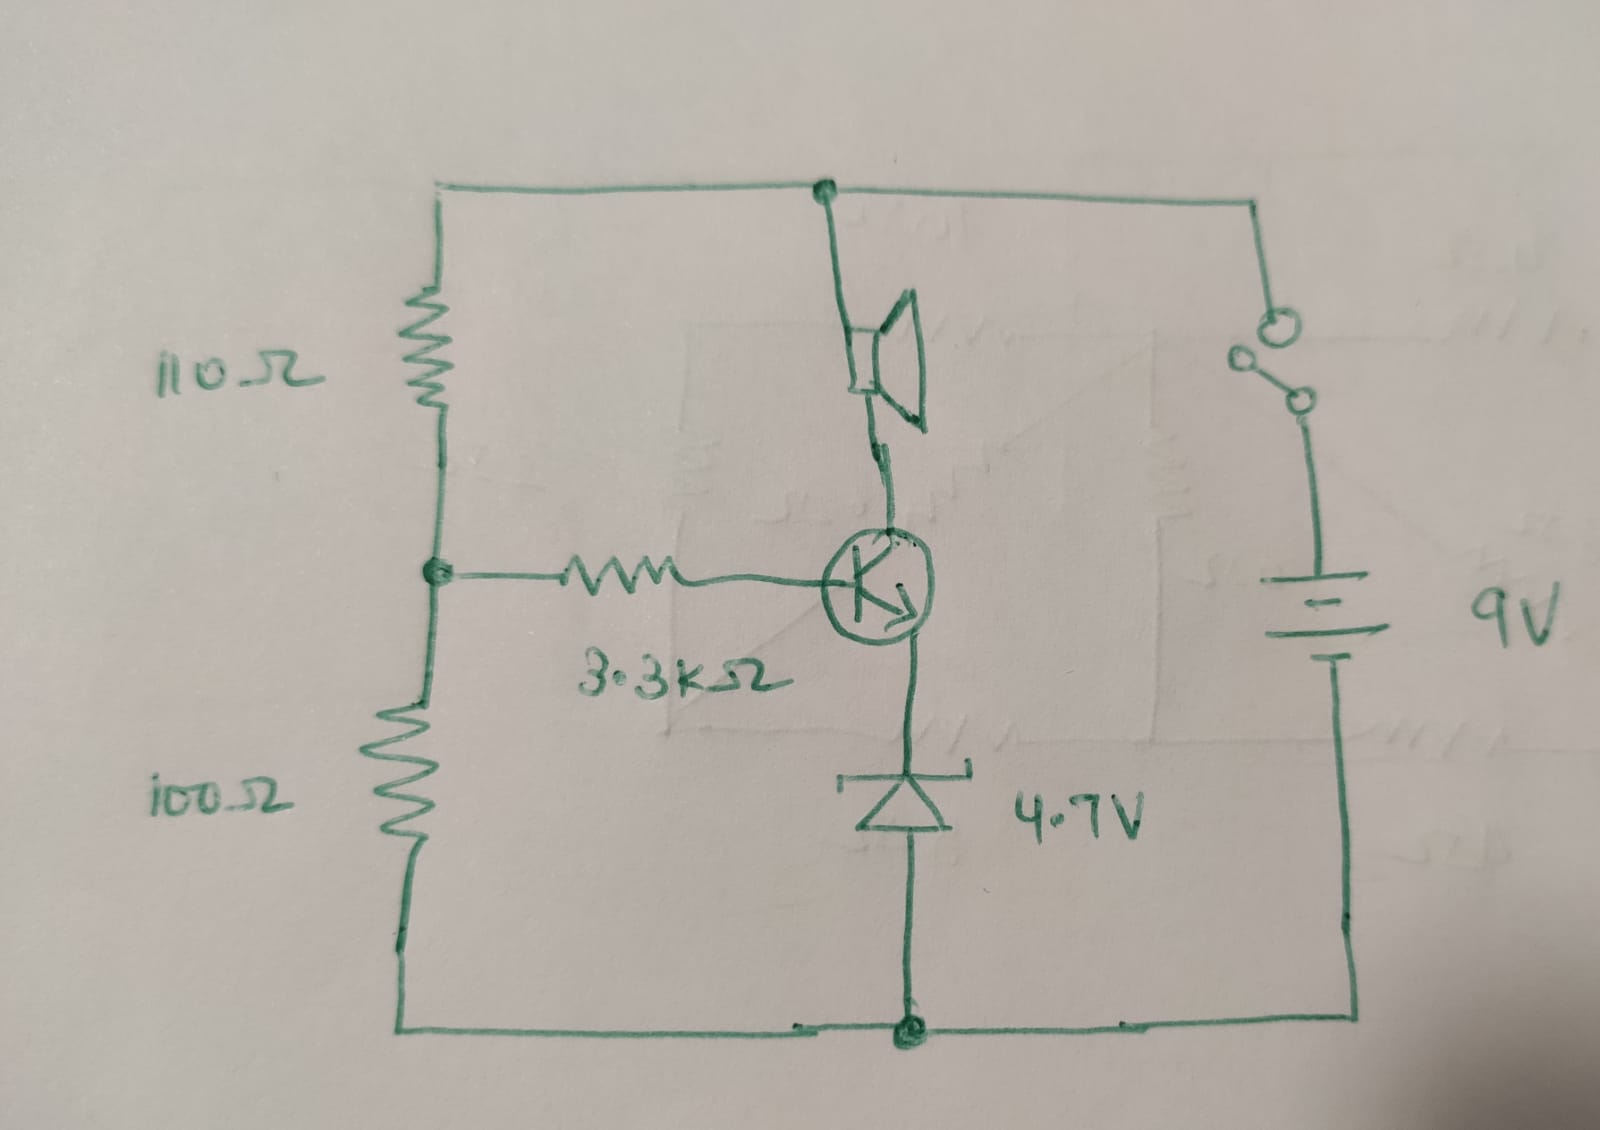diode: (832, 758, 975, 838)
junction: (872, 1002, 942, 1062), (402, 550, 474, 593), (802, 169, 854, 212), (1235, 186, 1271, 224), (384, 1013, 416, 1044), (1338, 1002, 1370, 1033), (424, 172, 453, 207)
resistor: (356, 693, 441, 846), (395, 271, 456, 419), (550, 547, 692, 599)
speaker: (837, 285, 930, 430)
switch: (1224, 303, 1323, 419)
text: (581, 637, 798, 700), (155, 347, 332, 401), (1011, 788, 1147, 845), (1468, 578, 1565, 652), (147, 769, 290, 816)
transistor: (815, 523, 938, 648)
voltage.dc: (1261, 569, 1396, 665)
